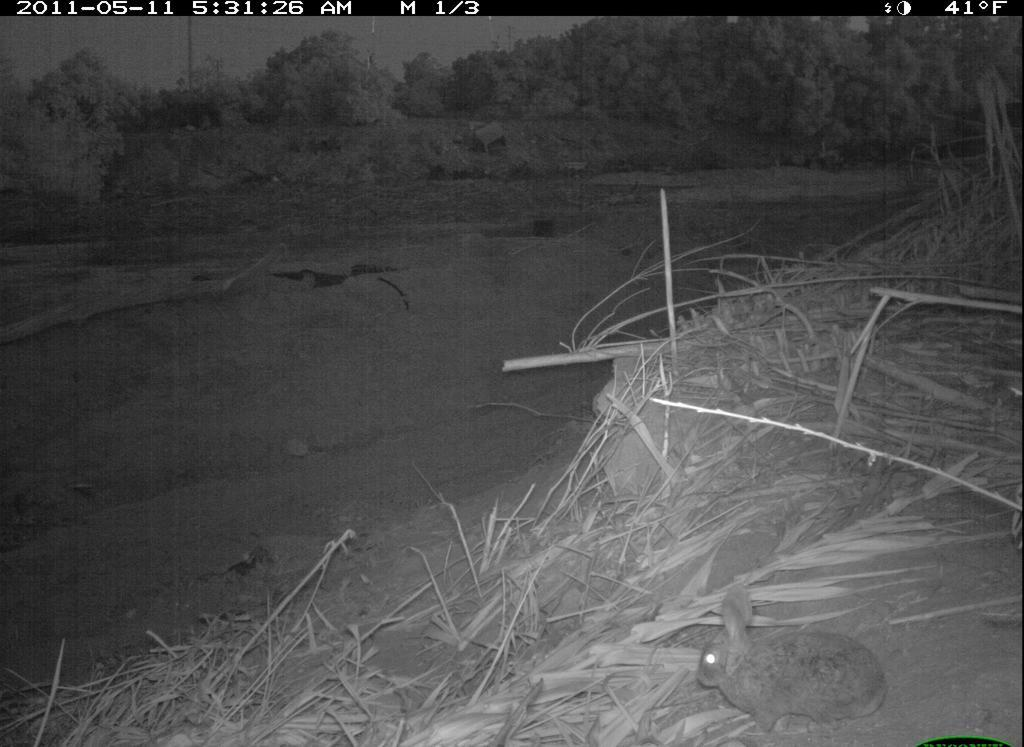rabbit: (665, 573, 894, 733)
